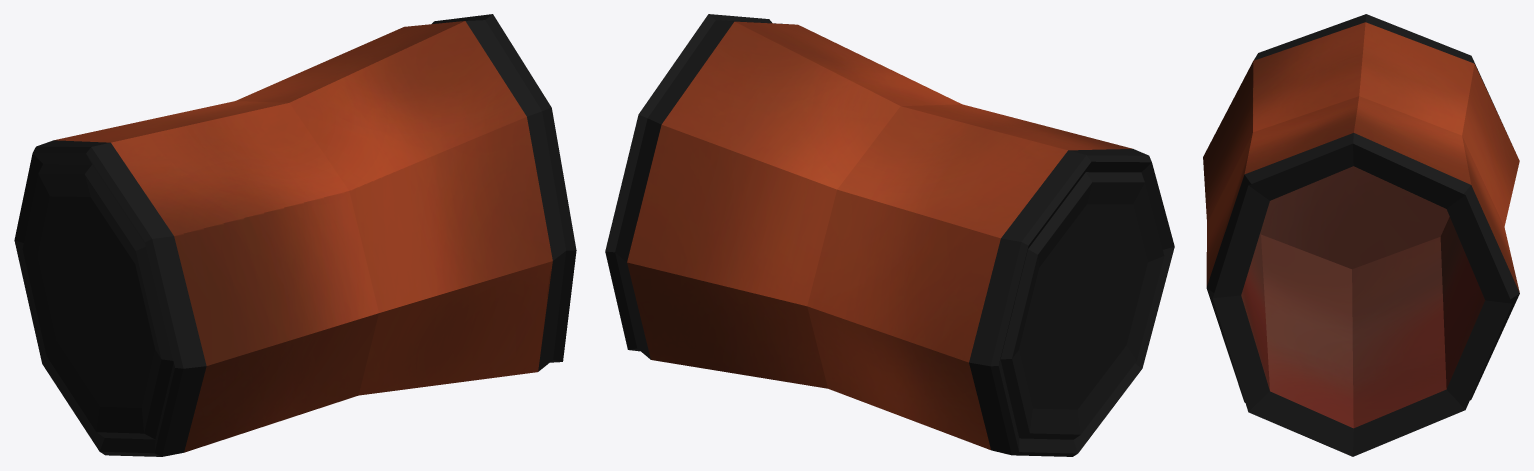
File: tomburk.glb
3 views of the same model, side by side, from view 1: azimuth 30°, elevation 25°; view 2: azimuth 150°, elevation 25°; view 3: azimuth 270°, elevation 25° (orthographic). The views are drawn at different scales.
Parts seen in each view (by area): view 1: mesh_id6, mesh_id5; view 2: mesh_id6, mesh_id5; view 3: mesh_id7, mesh_id6, mesh_id5.
Part boxes in pixels (bbox=[...]): mesh_id6: bbox=[54, 21, 552, 452]; mesh_id5: bbox=[14, 14, 576, 456]; mesh_id6: bbox=[627, 21, 1132, 449]; mesh_id5: bbox=[605, 14, 1174, 456]; mesh_id7: bbox=[1241, 166, 1485, 428]; mesh_id6: bbox=[1203, 22, 1519, 291]; mesh_id5: bbox=[1206, 14, 1519, 456].
Size of the model in its own units: 0.512 by 0.4166 by 0.3881.
Materials: 3 (3 with a texture image).
